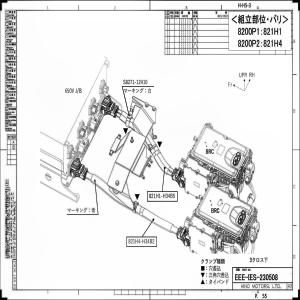PartNumber: (149, 192, 176, 200), (122, 78, 148, 85), (128, 238, 155, 244)
